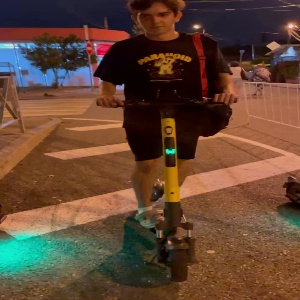human on a scooter: (92, 1, 239, 284)
